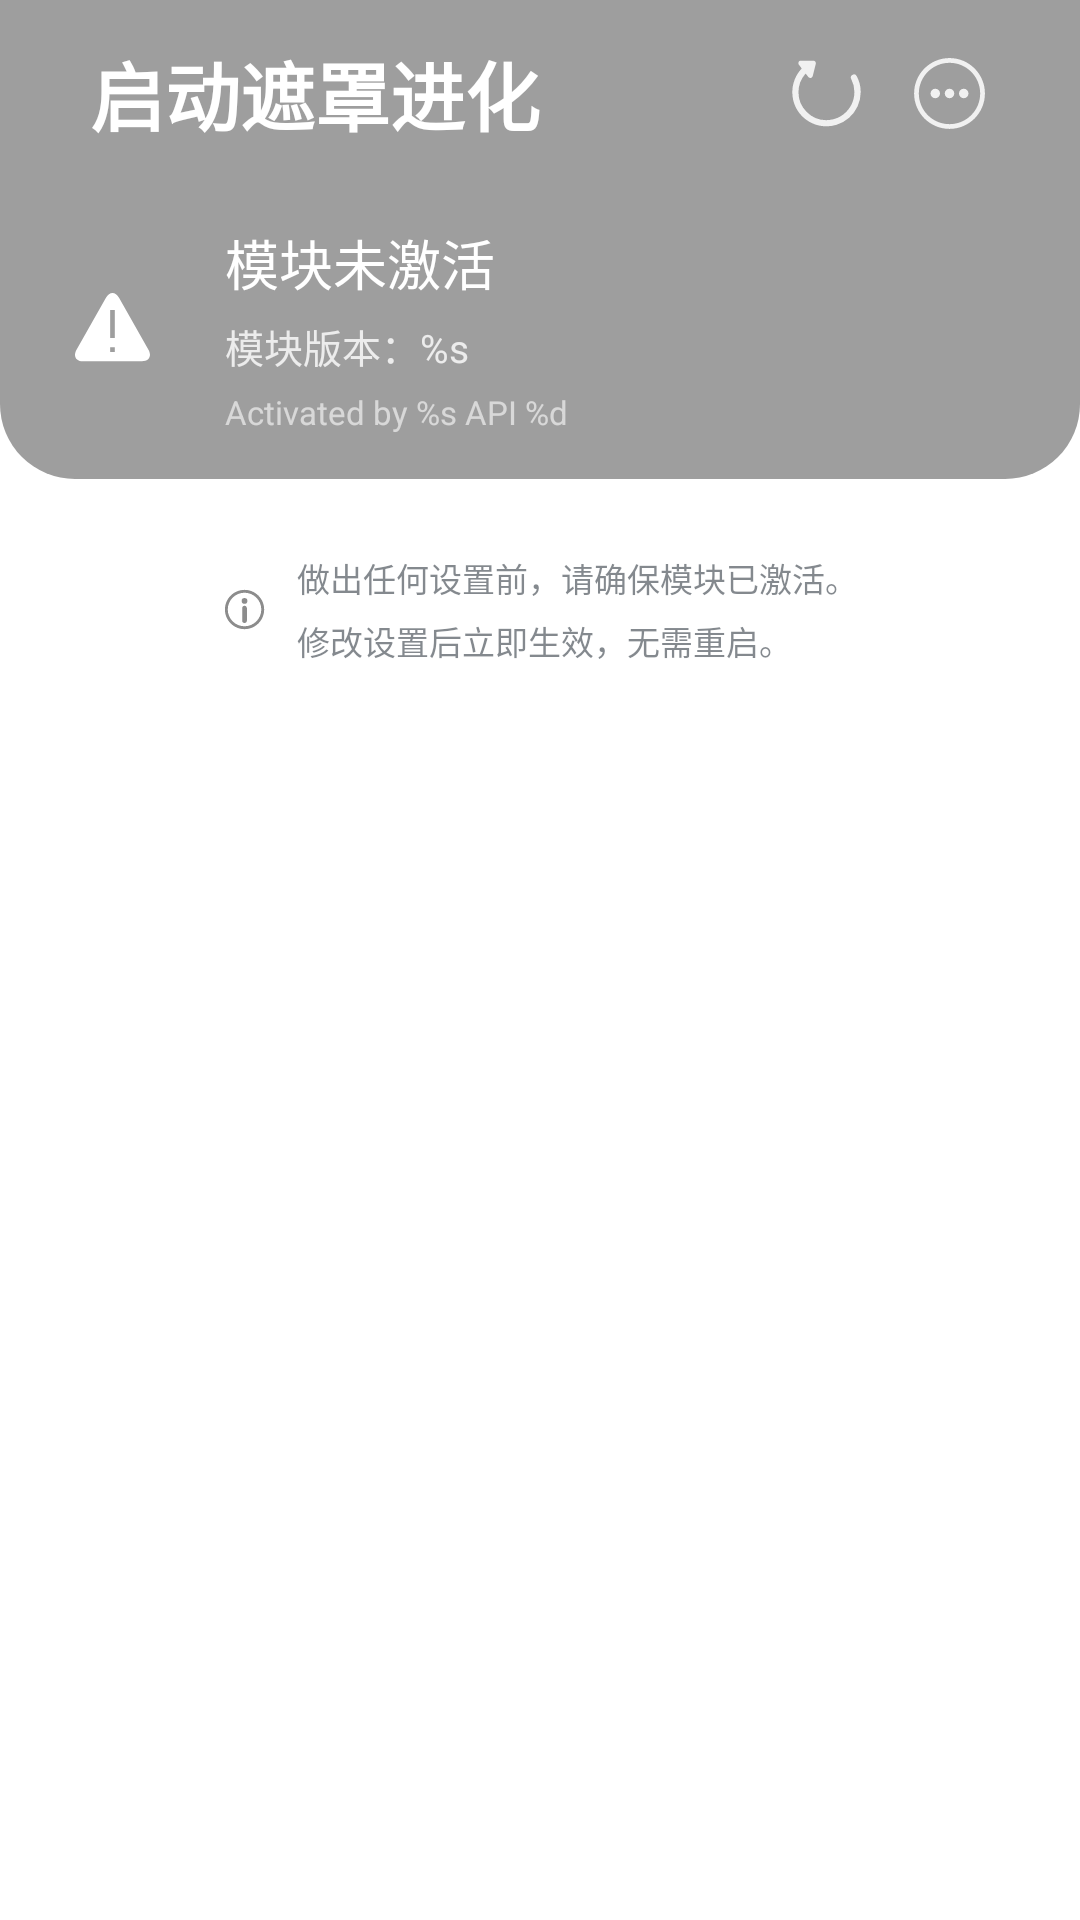

Screen size 1080 × 1920. Icon name, then its center in pixels as [x,y]:
info: [245,610]
more: [949,93]
restart: [826,93]
warn: [112,327]
